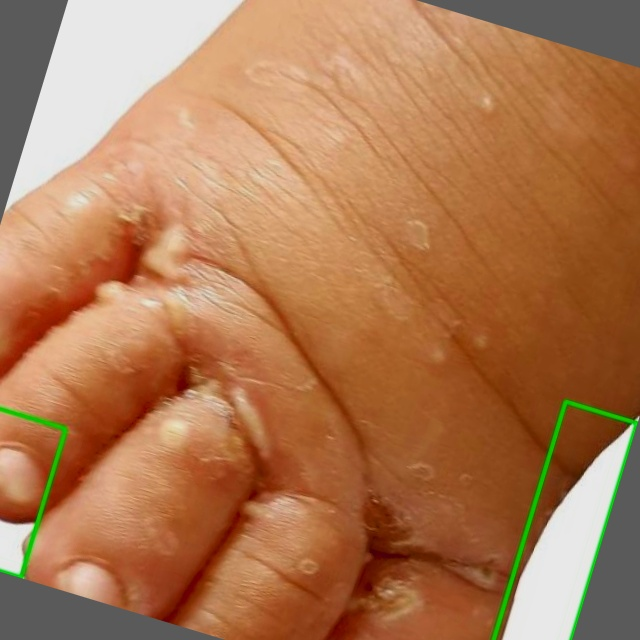Scabies: (493, 401, 636, 639)
